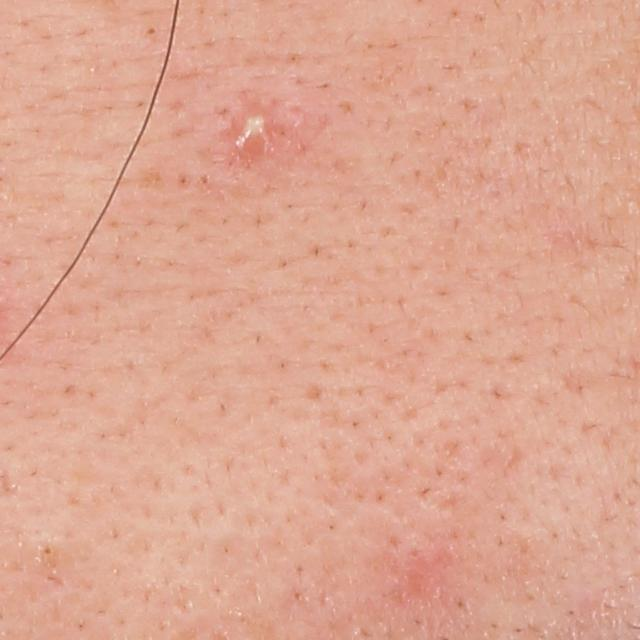comedo: (38, 537, 62, 561)
pustule: (230, 106, 276, 156)
